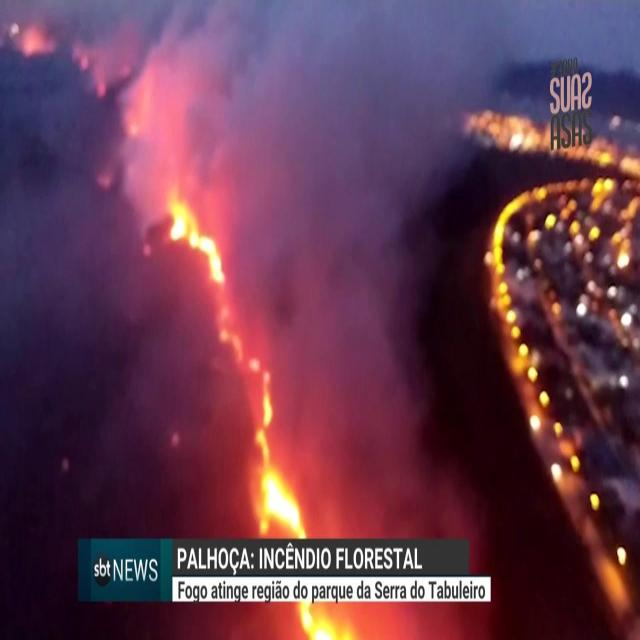Fire: (254, 398, 314, 539), (166, 198, 228, 286), (302, 604, 353, 638)
